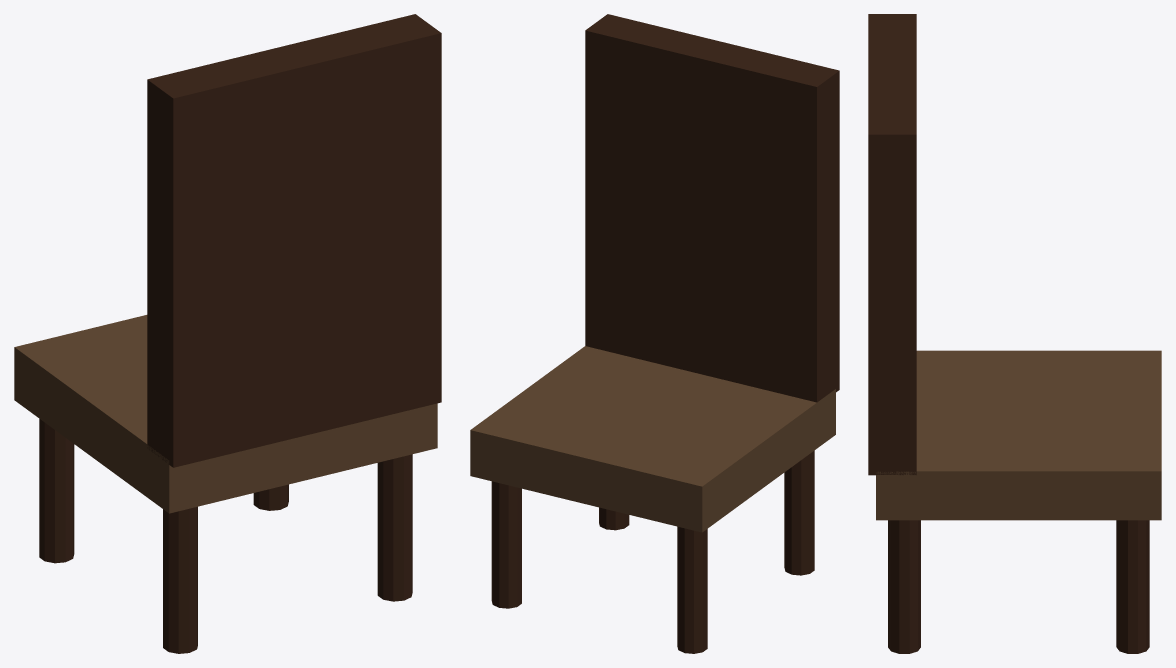
The model's file is GalakasMidCity_INT_Chair_Wood_01.obj.
3 views of the same model, side by side, from view 1: azimuth 30°, elevation 25°; view 2: azimuth 150°, elevation 25°; view 3: azimuth 270°, elevation 25° (orthographic). The views are drawn at different scales.
Parts seen in each view (by area): view 1: back, seat, leg_0_38_0_38, leg_-0_38_0_38, leg_-0_38_-0_38, leg_0_38_-0_38; view 2: back, seat, leg_-0_38_-0_38, leg_0_38_-0_38, leg_-0_38_0_38, leg_0_38_0_38; view 3: seat, back, leg_0_38_-0_38, leg_0_38_0_38.
Boxes of the visible parts, x1,y1,x2,y2 form: back: (147, 14, 441, 467); seat: (14, 315, 437, 513); leg_0_38_0_38: (377, 454, 412, 601); leg_-0_38_0_38: (163, 506, 197, 653); leg_-0_38_-0_38: (39, 419, 74, 563); leg_0_38_-0_38: (253, 484, 288, 510); back: (585, 14, 839, 402); seat: (470, 346, 835, 532); leg_-0_38_-0_38: (677, 526, 707, 653); leg_0_38_-0_38: (491, 481, 521, 608); leg_-0_38_0_38: (784, 450, 814, 575); leg_0_38_0_38: (599, 507, 629, 530); seat: (876, 350, 1161, 520); back: (868, 14, 916, 475); leg_0_38_-0_38: (1116, 520, 1149, 653); leg_0_38_0_38: (888, 520, 920, 653).
Size of the model in its own units: 0.95 by 1.93 by 0.975.
